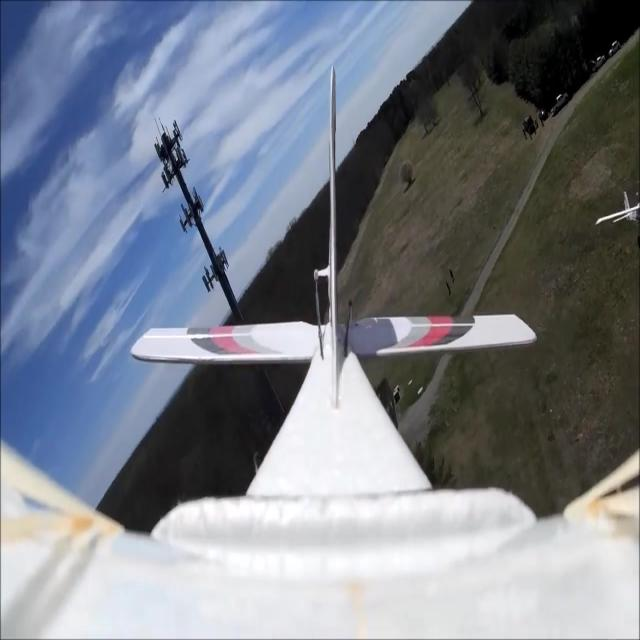iha: (595, 181, 640, 234)
